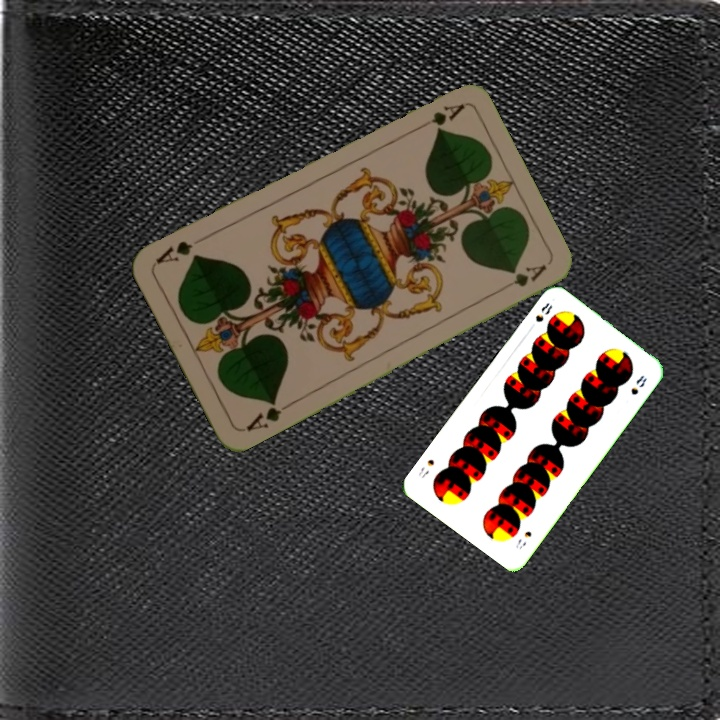GA: (242, 395, 295, 435), (411, 100, 467, 134)
S8: (531, 299, 555, 325), (511, 527, 534, 552)
